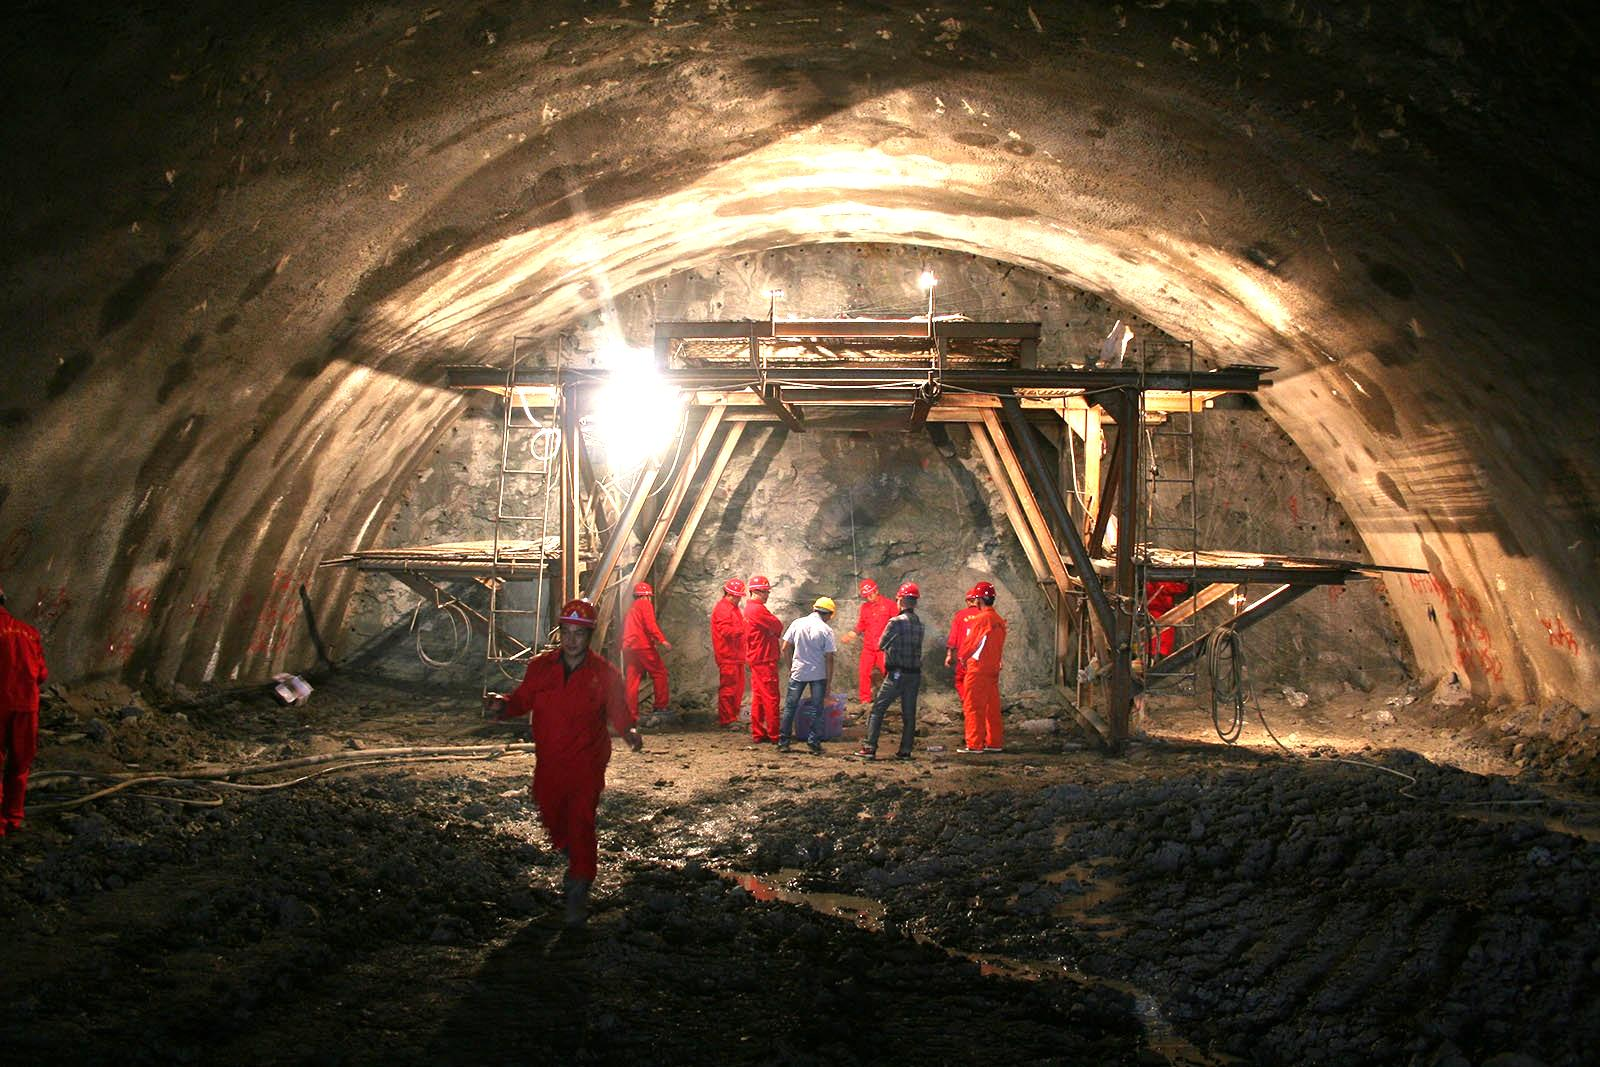helmet: (557, 600, 599, 656), (895, 581, 921, 611), (721, 578, 746, 607), (973, 580, 996, 609), (812, 595, 836, 622), (749, 575, 771, 603), (857, 578, 880, 603), (632, 581, 655, 603), (964, 586, 977, 607)
